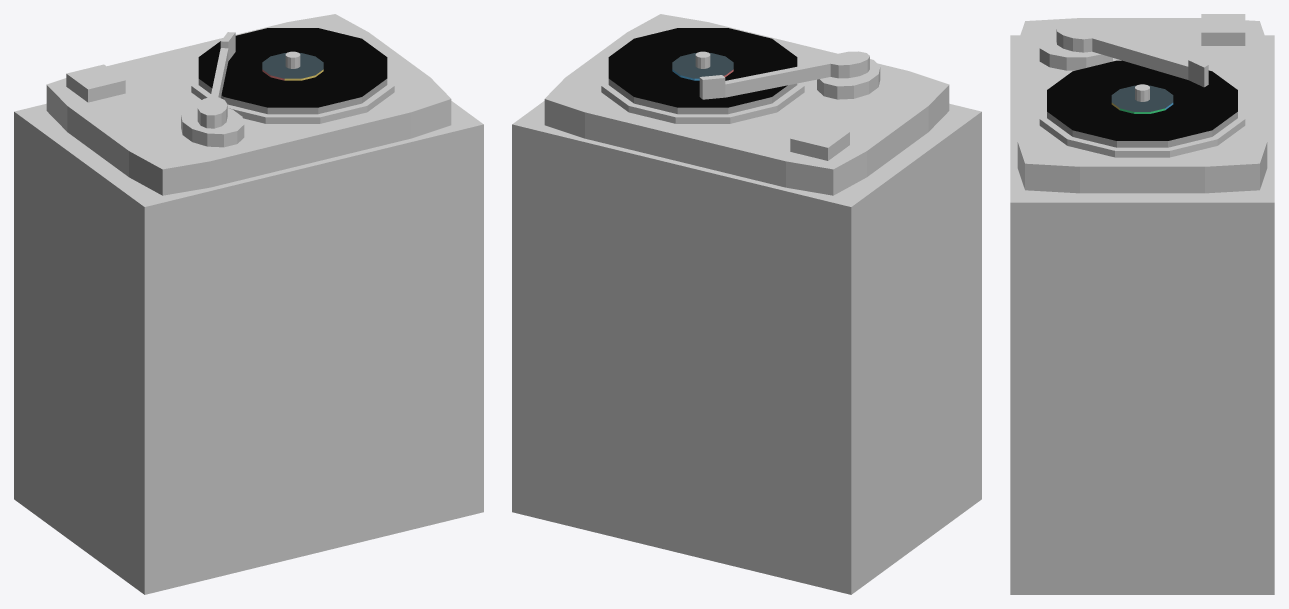
Rendered from record.fbx.
3 views of the same model, side by side, from view 1: azimuth 30°, elevation 25°; view 2: azimuth 150°, elevation 25°; view 3: azimuth 270°, elevation 25° (orthographic).
Visible parts, largest first — view 1: mesh_2, mesh, cylinder, cylinder_4, cylinder_1, cylinder_2, mesh_1; view 2: mesh_2, mesh, cylinder, cylinder_2, cylinder_4, mesh_1, cylinder_1; view 3: mesh_2, mesh, cylinder, cylinder_2, cylinder_4, mesh_1, cylinder_1.
Boxes of the visible parts, x1,y1,x2,y2 form: mesh_2: (14, 101, 483, 594); mesh: (46, 14, 451, 195); cylinder: (198, 28, 387, 114); cylinder_4: (191, 58, 394, 123); cylinder_1: (181, 105, 244, 147); cylinder_2: (197, 32, 235, 128); mesh_1: (66, 64, 125, 102); mesh_2: (512, 101, 981, 594); mesh: (544, 14, 949, 195); cylinder: (608, 28, 797, 114); cylinder_2: (699, 51, 869, 99); cylinder_4: (601, 58, 804, 123); mesh_1: (790, 123, 849, 160); cylinder_1: (817, 59, 880, 99); mesh_2: (1010, 35, 1274, 594); mesh: (1017, 18, 1267, 193); cylinder: (1047, 60, 1237, 147); cylinder_2: (1056, 24, 1208, 87); cylinder_4: (1039, 91, 1245, 157); mesh_1: (1201, 14, 1245, 45); cylinder_1: (1039, 34, 1112, 70).
Bounding box in the file's own units: 338 × 425 × 225.
1 material, 1 textured.
